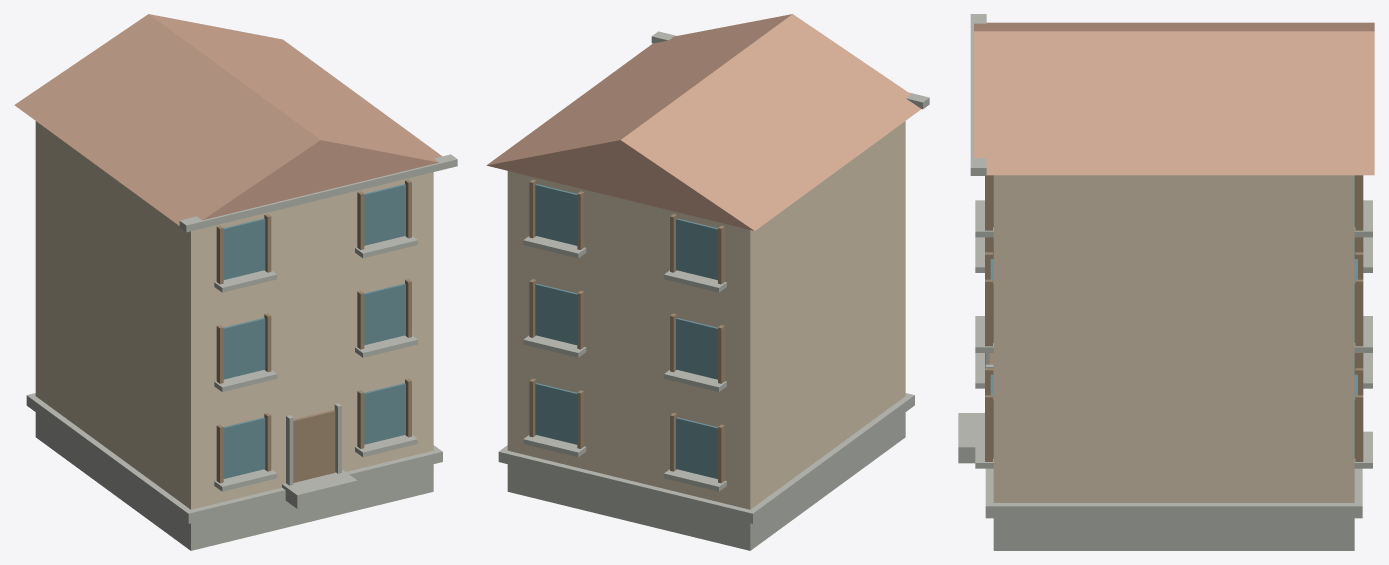
The model's file is house-2.glb.
The picture shows the model from 3 angles, left to right: view 1: azimuth 30°, elevation 25°; view 2: azimuth 150°, elevation 25°; view 3: azimuth 270°, elevation 25°; orthographic projection. The views are drawn at different scales.
Bounding box in the file's own units: 4.14 × 5.65 × 4.73.
